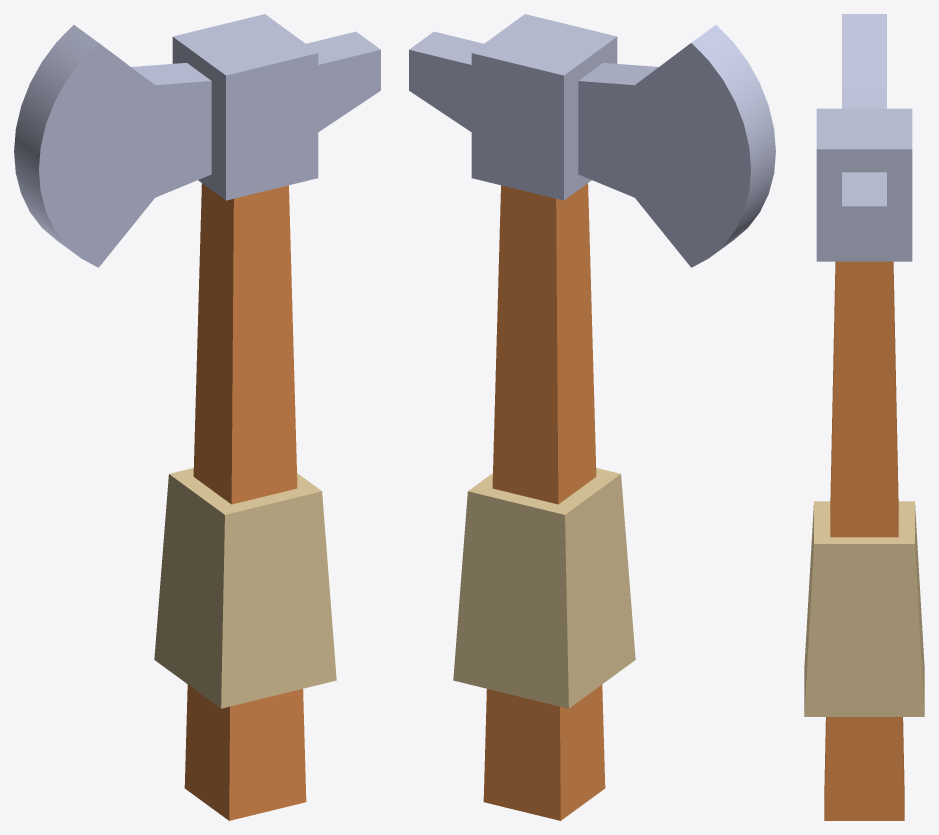
File: AxeMC.glb
The picture shows the model from 3 angles, left to right: view 1: azimuth 30°, elevation 25°; view 2: azimuth 150°, elevation 25°; view 3: azimuth 270°, elevation 25°; orthographic projection. The views are drawn at different scales.
Parts seen in each view (by area): view 1: toolAxe; view 2: toolAxe; view 3: toolAxe.
Boxes of the visible parts, x1=… form: toolAxe: x1=14, y1=14, x2=380, y2=820; toolAxe: x1=409, y1=14, x2=775, y2=820; toolAxe: x1=804, y1=14, x2=924, y2=820.
Size of the model in its own units: 0.1145 by 0.256 by 0.0387.
